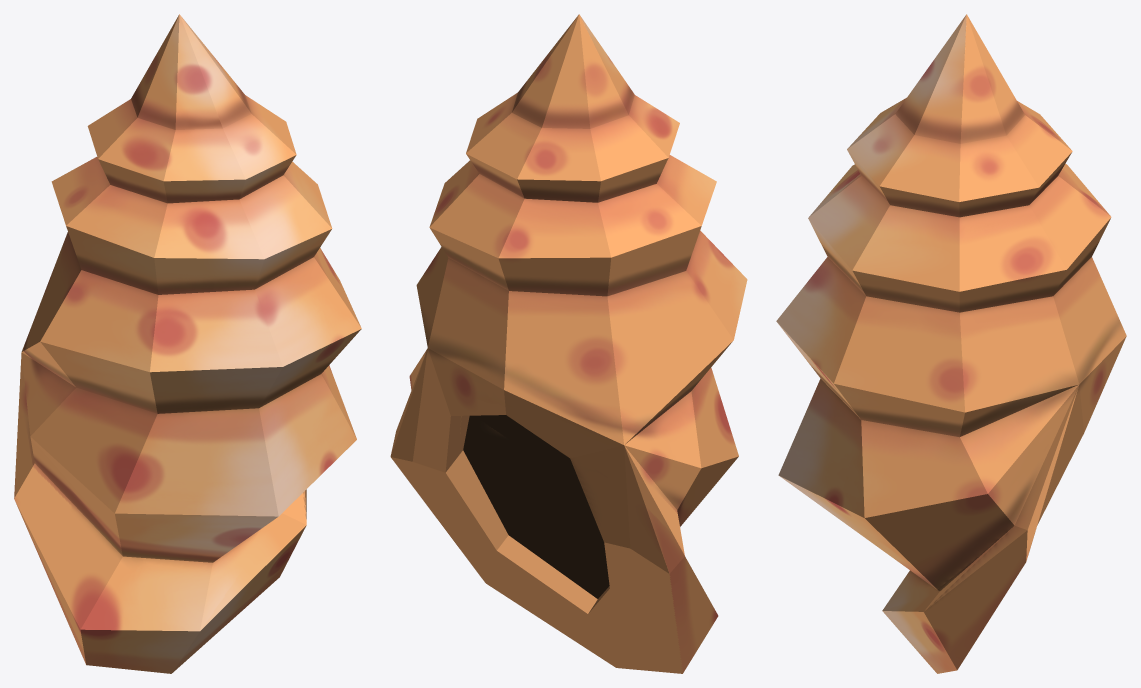
File: Caracola.glb
3 views of the same model, side by side, from view 1: azimuth 30°, elevation 25°; view 2: azimuth 150°, elevation 25°; view 3: azimuth 270°, elevation 25° (orthographic). The views are drawn at different scales.
Visible parts, largest first — view 1: Caracola; view 2: Caracola; view 3: Caracola.
Boxes of the visible parts, x1,y1,x2,y2 form: Caracola: (14, 14, 361, 673); Caracola: (390, 14, 747, 673); Caracola: (776, 14, 1126, 673).
Size of the model in its own units: 14.53 by 29.32 by 13.88.
Materials: 1 (1 with a texture image).
